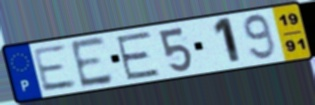1: (211, 16, 245, 67)
5: (156, 24, 195, 74)
9: (243, 12, 279, 64)
E: (68, 35, 116, 91), (29, 43, 79, 94), (114, 29, 162, 82)
